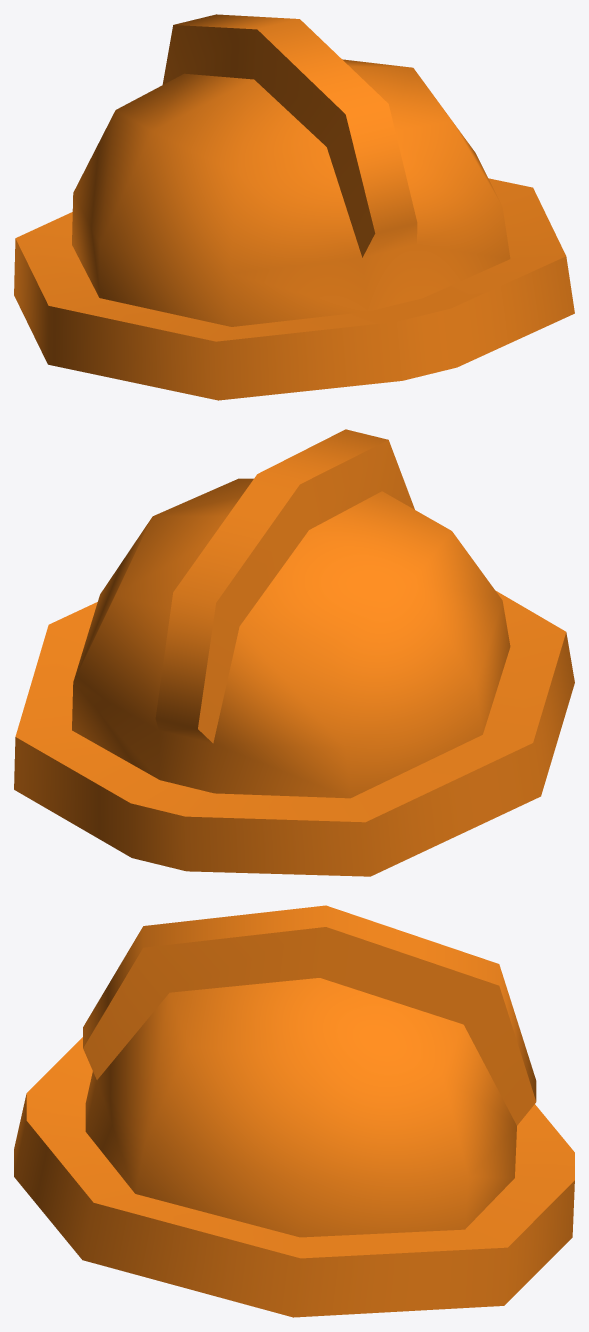
File: WorkerHead.fbx
The picture shows the model from 3 angles, top to bottom: view 1: azimuth 30°, elevation 25°; view 2: azimuth 150°, elevation 25°; view 3: azimuth 270°, elevation 25°; orthographic projection. The views are drawn at different scales.
Parts seen in each view (by area): view 1: Cube.002; view 2: Cube.002; view 3: Cube.002.
Part boxes in pixels (x1=…): Cube.002: x1=14, y1=14, x2=574, y2=400; Cube.002: x1=14, y1=429, x2=574, y2=876; Cube.002: x1=14, y1=905, x2=574, y2=1317.
Bounding box in the file's own units: 47.93 × 27.68 × 45.77.
